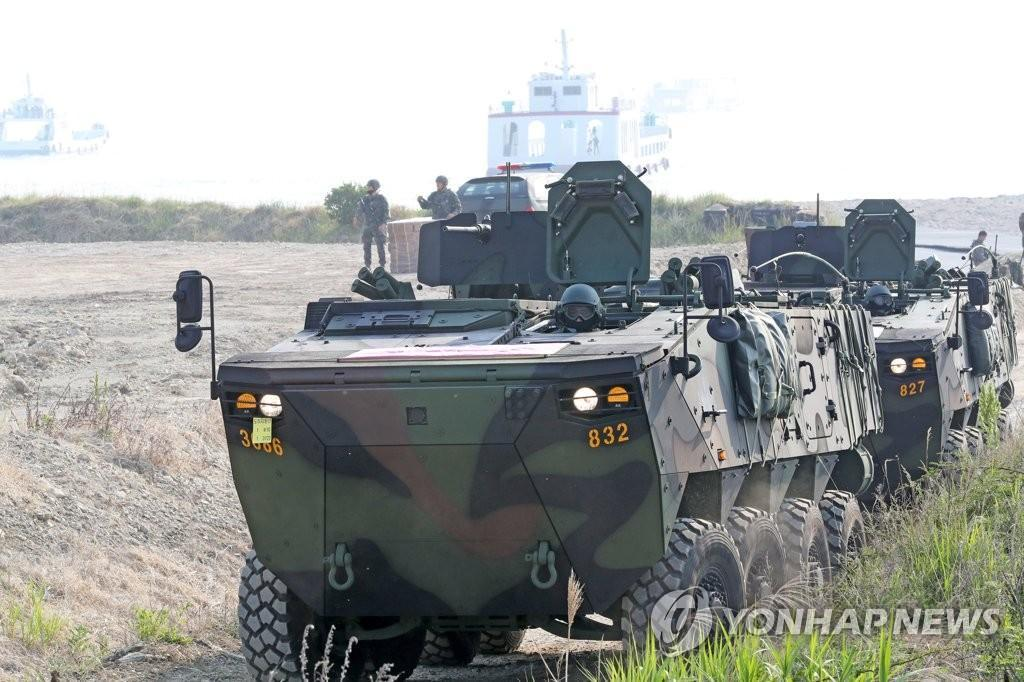MIL_IFV: (216, 161, 873, 677)
